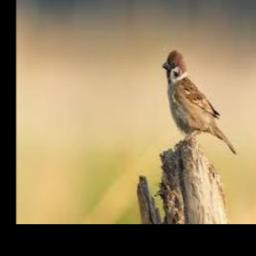Sparrow: (163, 50, 237, 155)
